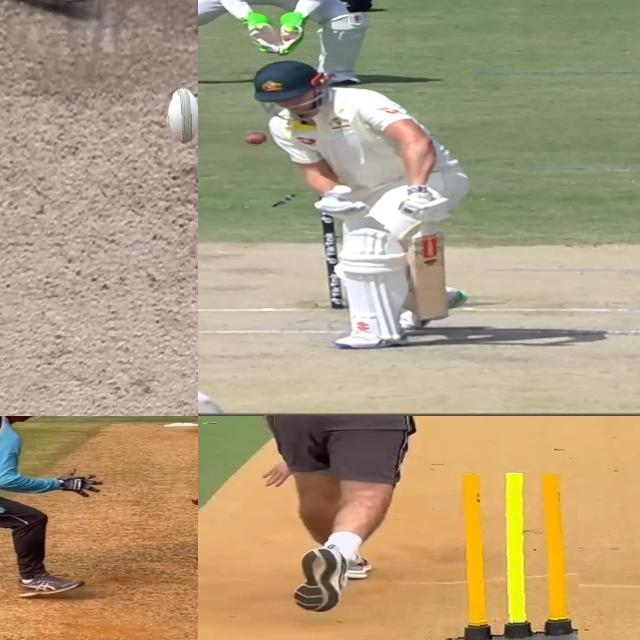Cricket ball: (166, 86, 198, 148), (244, 132, 268, 146), (190, 496, 198, 505)
Stumps: (442, 473, 578, 640)
